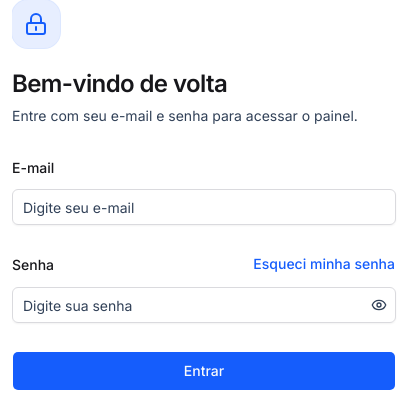
Test: LoginFlow › volta para o e-mail e a senha
In the field labelled "E-mail": (204, 207) [12, 189, 396, 225], type "gabriel@ecomtrack.com.br"
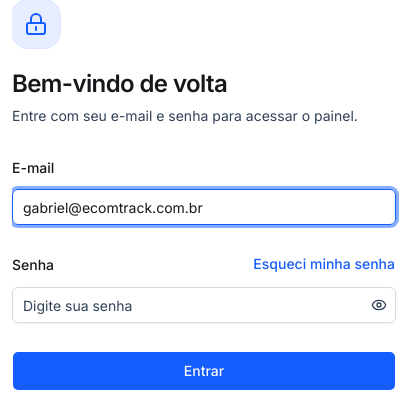
In the password field labelled "Senha": (190, 305) [13, 287, 367, 323], type "senha-certa"
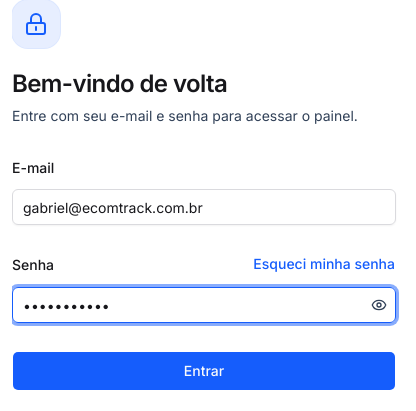
Click the button "Entrar": (204, 371) [12, 351, 396, 391]
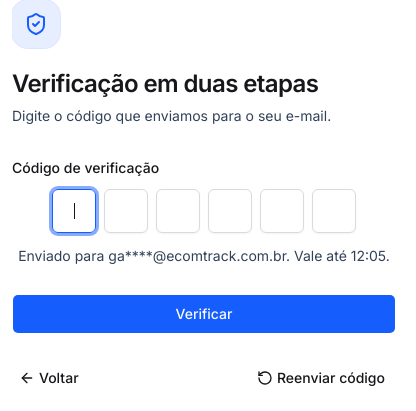
Click the button "Voltar": (51, 378) [12, 362, 90, 394]
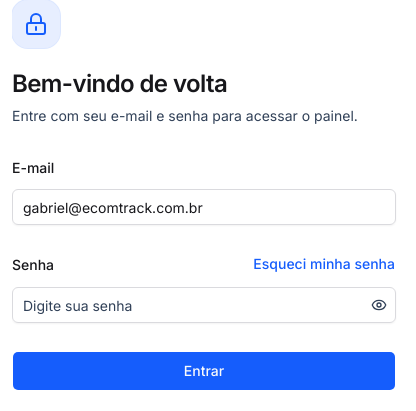
Expected: the heading "Bem-vindo de volta" is shown, [12, 69, 227, 98]
Expected: the field labelled "E-mail" holds "gabriel@ecomtrack.com.br", [12, 189, 396, 225]
